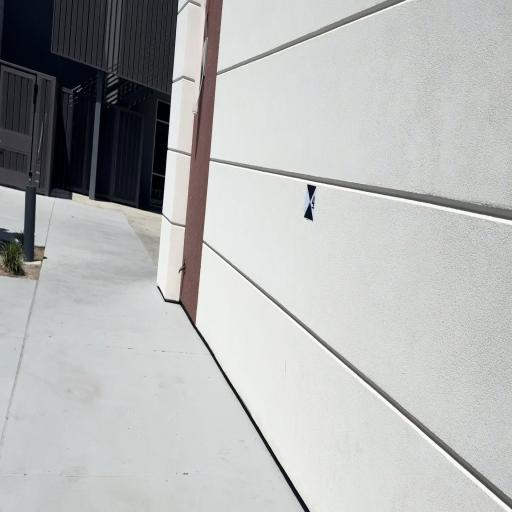target4: (304, 184, 317, 222)
